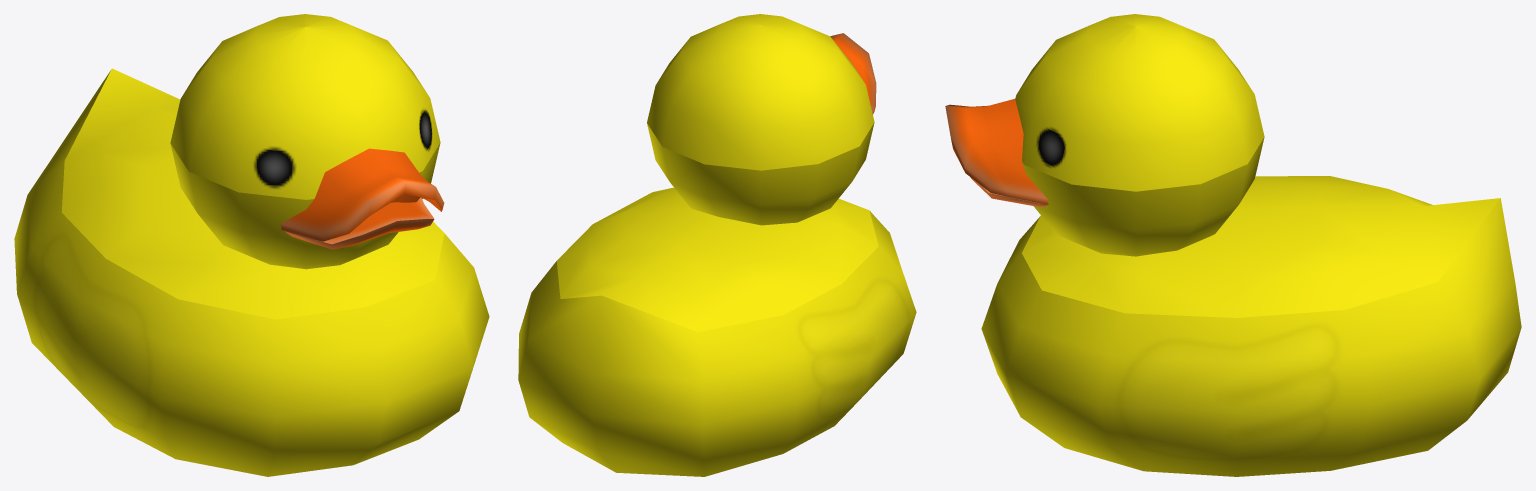
The model's file is duck.dae.
3 views of the same model, side by side, from view 1: azimuth 30°, elevation 25°; view 2: azimuth 150°, elevation 25°; view 3: azimuth 270°, elevation 25° (orthographic). The views are drawn at different scales.
Visible parts, largest first — view 1: Part1; view 2: Part1; view 3: Part1.
Boxes of the visible parts, x1,y1,x2,y2 form: Part1: (14, 14, 489, 476); Part1: (518, 14, 916, 476); Part1: (945, 14, 1521, 476).
Size of the model in its own units: 0.972 by 1.4 by 1.04.
Materials: 1 (1 with a texture image).
